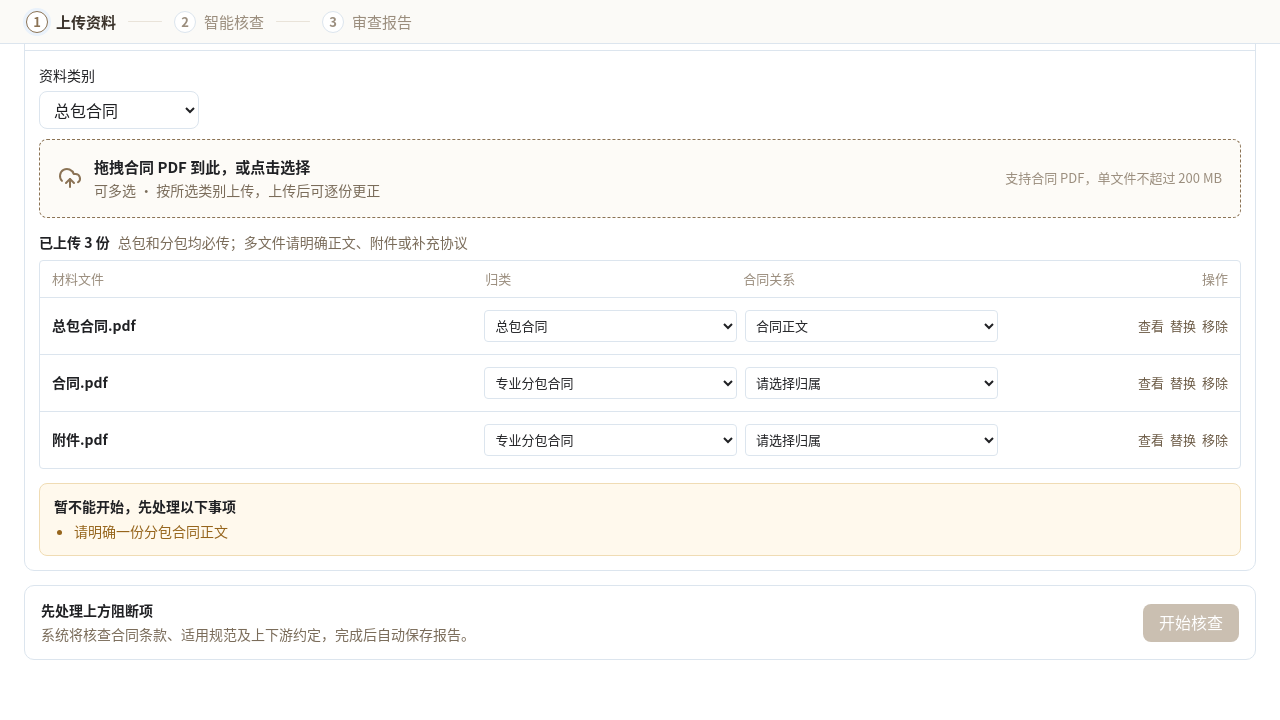
Test: RetrospectiveWorkspace › persists relationship changes and restores them from the server after remount
Later steps or results of the test are not shown.
(page scrolled)
Select "合同正文" in the dropdown named "合同.pdf的合同关系". click: (871, 383)
box: [745,367,998,399]
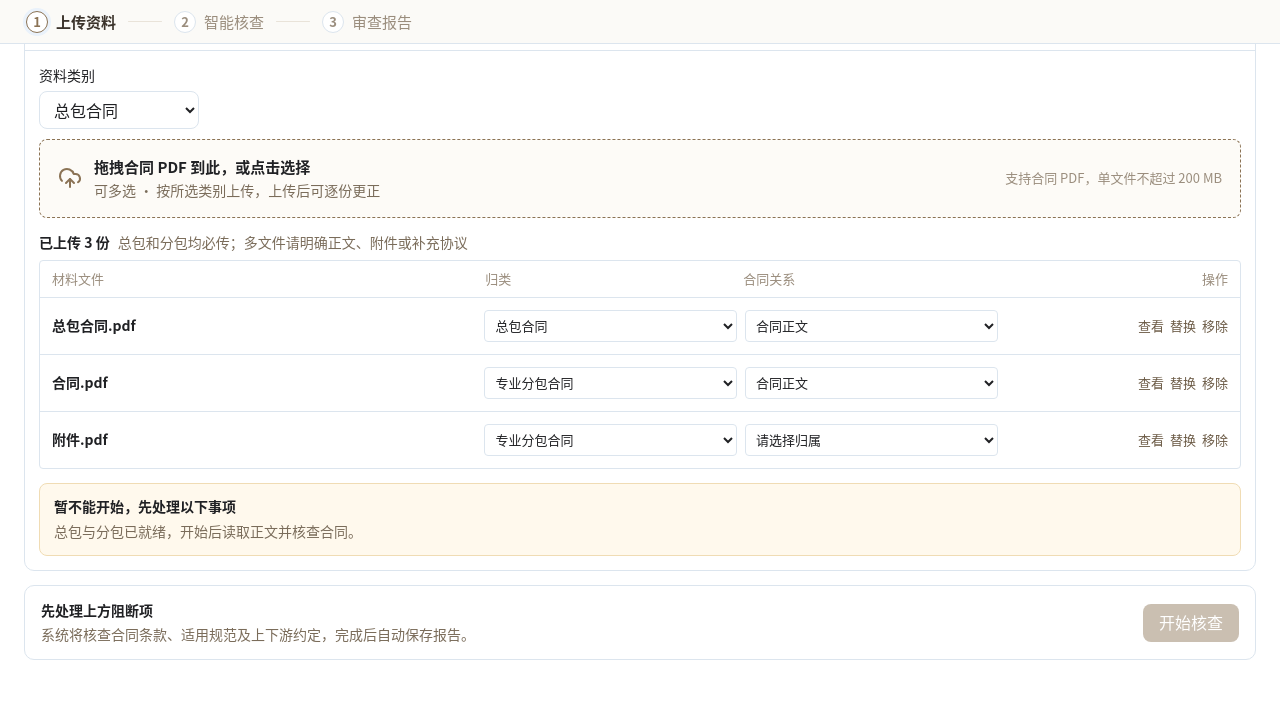
Select "合同附件" in the dropdown named "附件.pdf的合同关系". click: (871, 440)
box: [745,424,998,456]
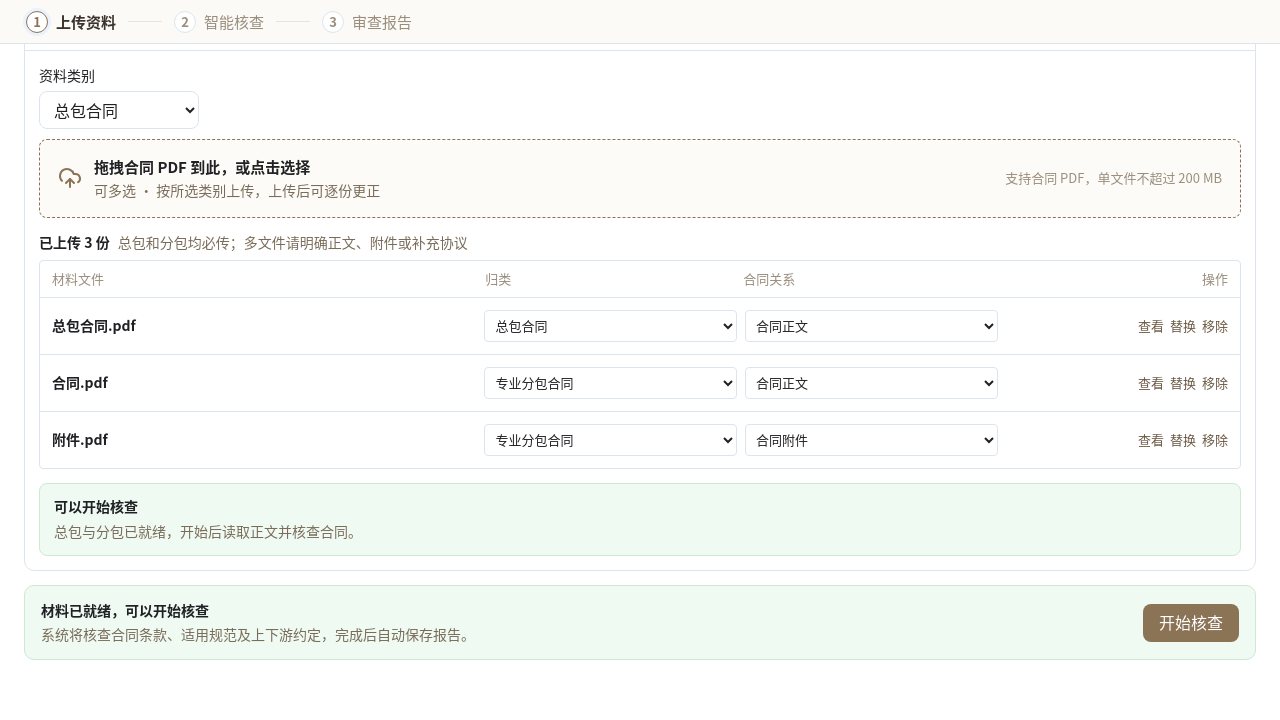
Expected: the button "开始核查" is enabled, [1143,604,1239,642]
